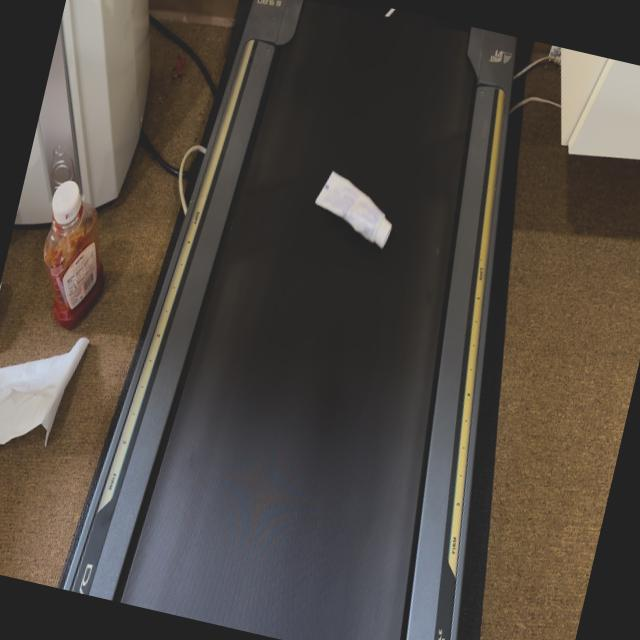Trash: (306, 154, 409, 267)
